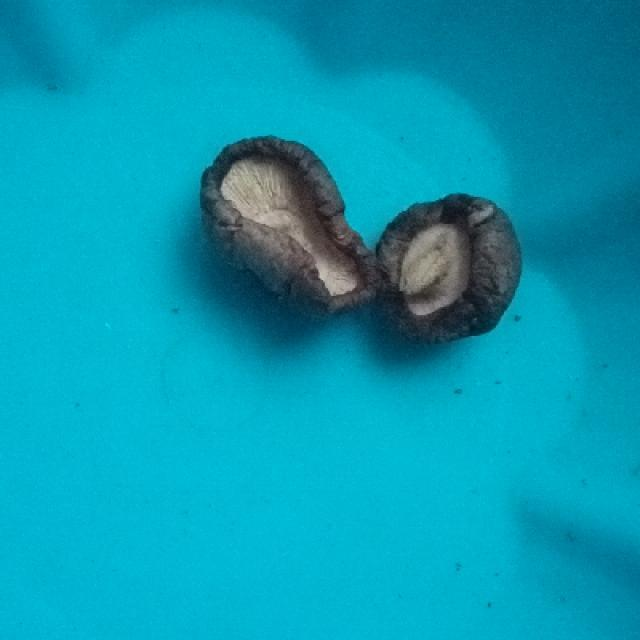Lentinus edodes: (200, 133, 383, 313), (379, 194, 522, 342)
